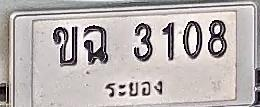0: (182, 20, 202, 59)
1: (162, 21, 175, 61)
3: (133, 22, 153, 61)
8: (208, 19, 226, 58)
A02: (52, 26, 78, 66)
A09: (83, 24, 109, 64)
RYG: (100, 74, 168, 103)
